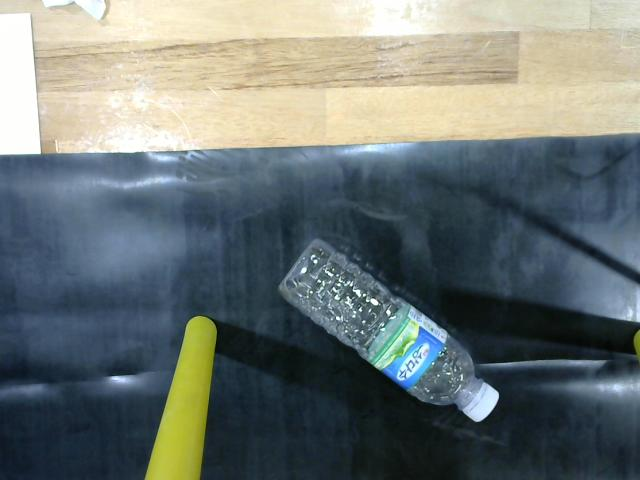bottle: (274, 224, 505, 434)
